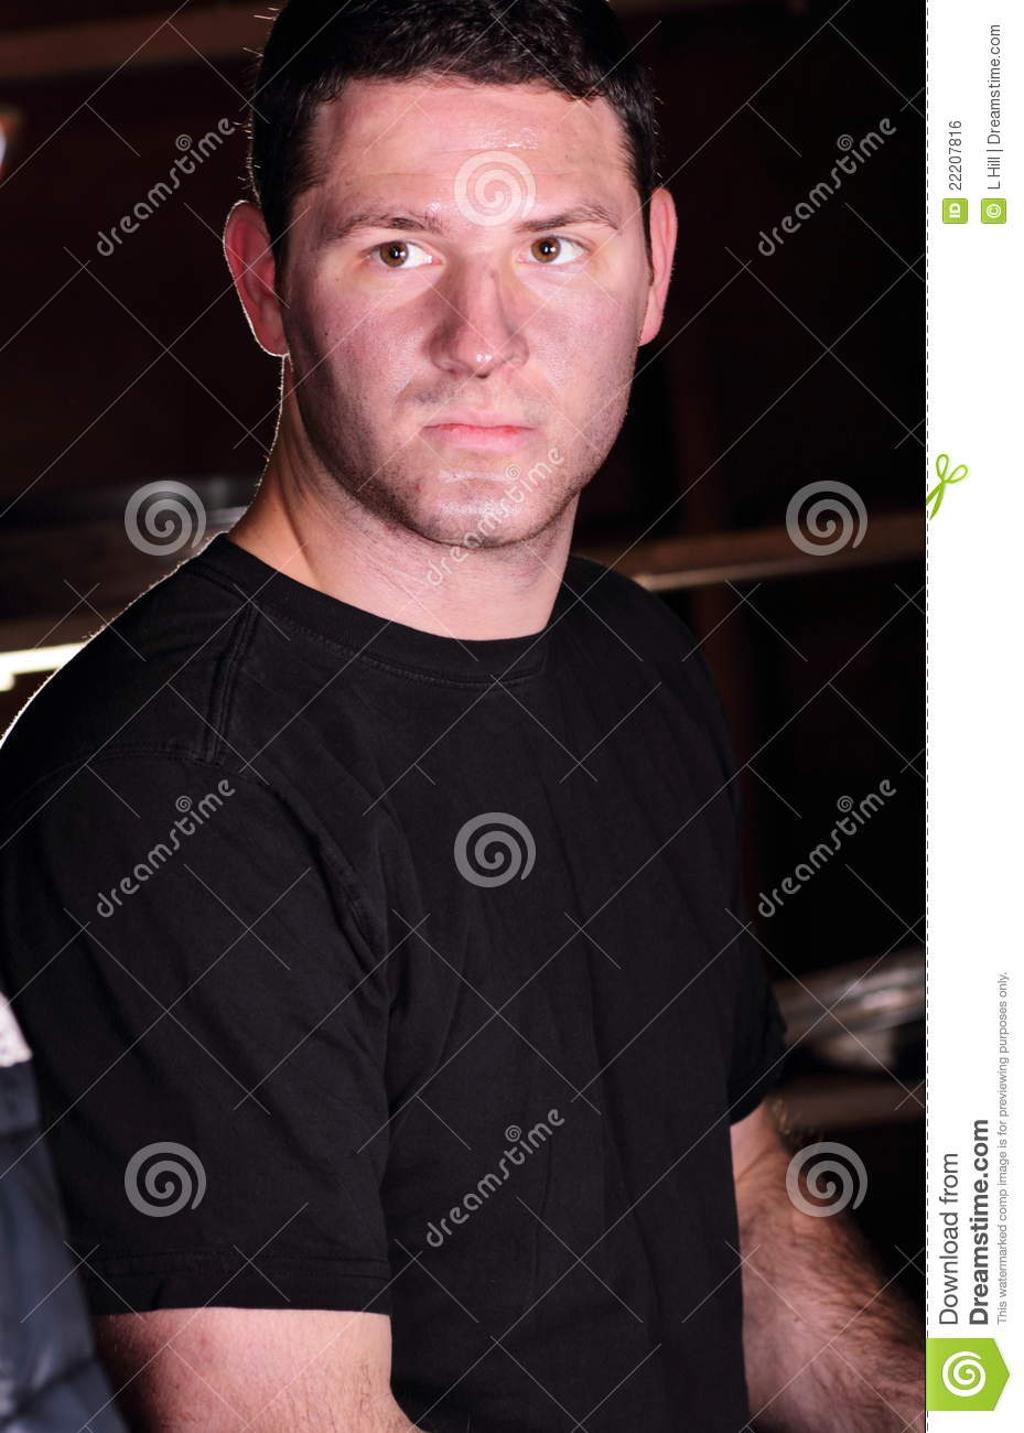face: (317, 88, 644, 530)
